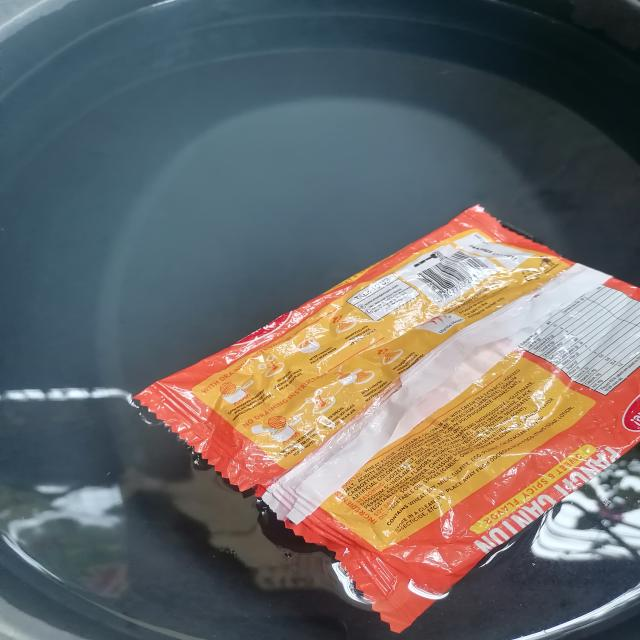Plastic Wrapper: (136, 206, 640, 632)
